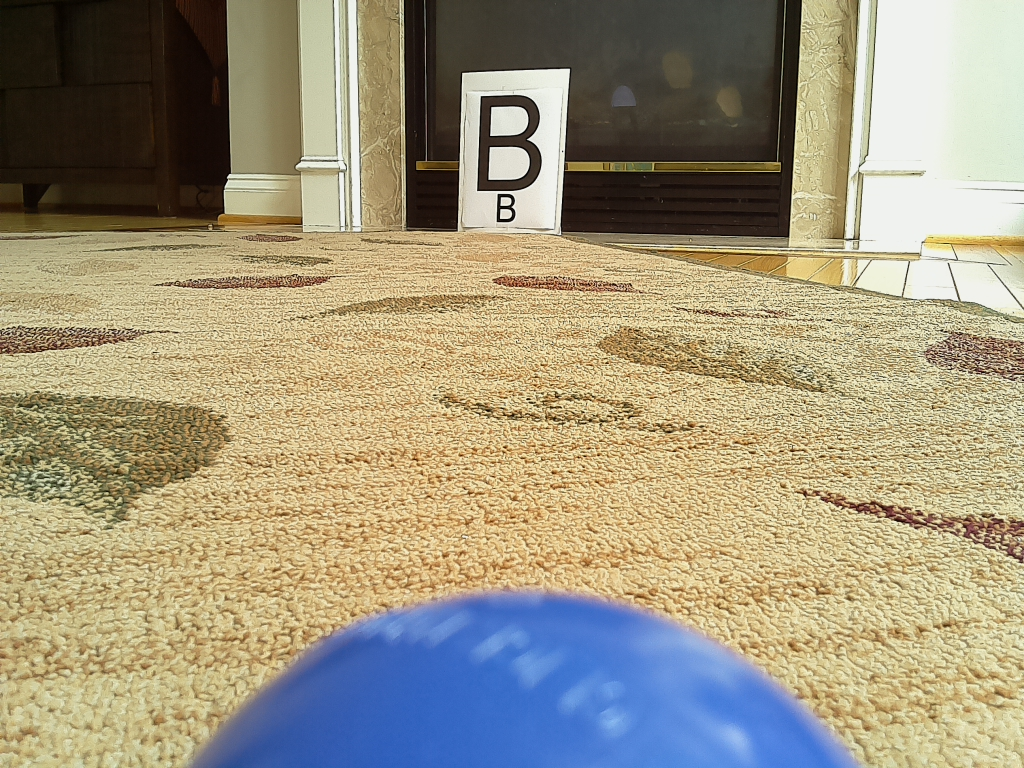letter: (480, 96, 541, 192)
